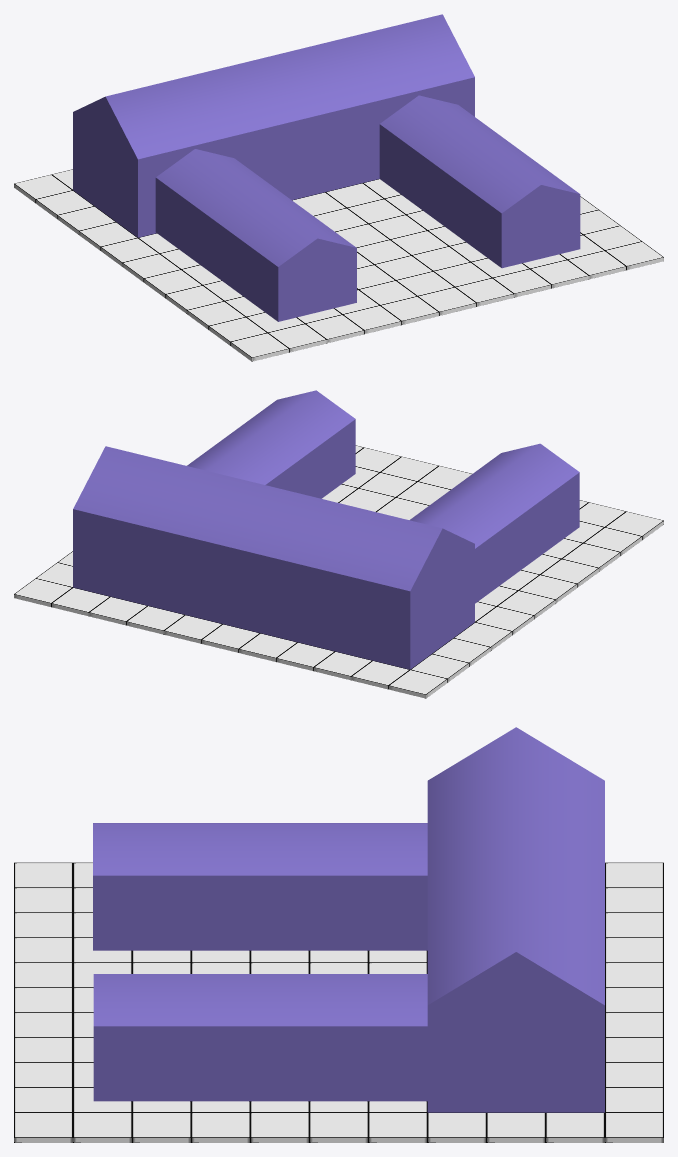
Rendered from XG_Mansion.glb.
The picture shows the model from 3 angles, top to bottom: view 1: azimuth 30°, elevation 25°; view 2: azimuth 150°, elevation 25°; view 3: azimuth 270°, elevation 25°; orthographic projection. The views are drawn at different scales.
Parts seen in each view (by area): view 1: building_9m_3m_006, building_9m_3m_005, building_9m_3m_007, 1m_base_block_2569, 1m_base_block_2564, 1m_base_block_2570, 1m_base_block_2571, 1m_base_block_2565, 1m_base_block_2566, 1m_base_block_2567, 1m_base_block_2568, 1m_base_block_2562 (+30 smaller); view 2: building_9m_3m_006, building_9m_3m_005, building_9m_3m_007, 1m_base_block_2485, 1m_base_block_2480, 1m_base_block_2482, 1m_base_block_2484, 1m_base_block_2478, 1m_base_block_2483, 1m_base_block_2541, 1m_base_block_2550, 1m_base_block_2479 (+21 smaller); view 3: building_9m_3m_006, building_9m_3m_005, building_9m_3m_007, 1m_base_block_2545, 1m_base_block_2542, 1m_base_block_2543, 1m_base_block_2544, 1m_base_block_2546, 1m_base_block_2547, 1m_base_block_2548, 1m_base_block_2549, 1m_base_block_2561 (+40 smaller).
Part boxes in pixels (x1,y1,x2,y2): building_9m_3m_006: (73, 14, 474, 237); building_9m_3m_005: (155, 149, 356, 321); building_9m_3m_007: (379, 95, 580, 268); 1m_base_block_2569: (230, 333, 289, 361); 1m_base_block_2564: (380, 296, 439, 324); 1m_base_block_2570: (530, 259, 588, 288); 1m_base_block_2571: (568, 250, 626, 279); 1m_base_block_2565: (343, 305, 401, 334); 1m_base_block_2566: (305, 314, 364, 343); 1m_base_block_2567: (493, 269, 551, 297); 1m_base_block_2568: (268, 324, 326, 352); 1m_base_block_2562: (455, 278, 513, 306); building_9m_3m_006: (73, 446, 474, 669); building_9m_3m_005: (409, 443, 579, 603); building_9m_3m_007: (187, 390, 355, 498); 1m_base_block_2485: (388, 670, 447, 698); 1m_base_block_2480: (238, 633, 297, 661); 1m_base_block_2482: (313, 651, 372, 680); 1m_base_block_2484: (351, 660, 409, 689); 1m_base_block_2478: (164, 615, 222, 643); 1m_base_block_2483: (126, 606, 184, 634); 1m_base_block_2541: (51, 587, 109, 616); 1m_base_block_2550: (14, 578, 72, 606); 1m_base_block_2479: (201, 624, 259, 652); building_9m_3m_006: (427, 727, 604, 1112); building_9m_3m_005: (93, 823, 427, 950); building_9m_3m_007: (93, 974, 427, 1101); 1m_base_block_2545: (309, 1112, 368, 1142); 1m_base_block_2542: (486, 1112, 545, 1142); 1m_base_block_2543: (427, 1112, 486, 1142); 1m_base_block_2544: (368, 1112, 427, 1142); 1m_base_block_2546: (250, 1112, 309, 1142); 1m_base_block_2547: (545, 1112, 604, 1142); 1m_base_block_2548: (191, 1112, 250, 1142); 1m_base_block_2549: (132, 1112, 191, 1142); 1m_base_block_2561: (73, 1112, 132, 1142).
Bounding box in the file's own units: 11 × 3.1 × 11.
Materials: 2 (1 with a texture image).
